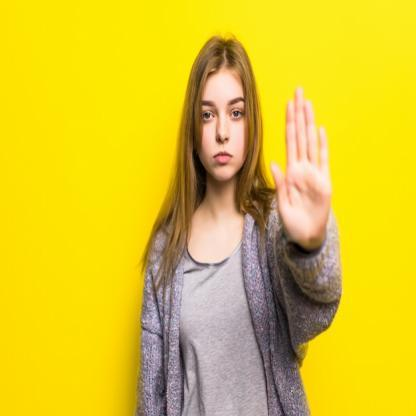stop: (267, 86, 335, 248)
